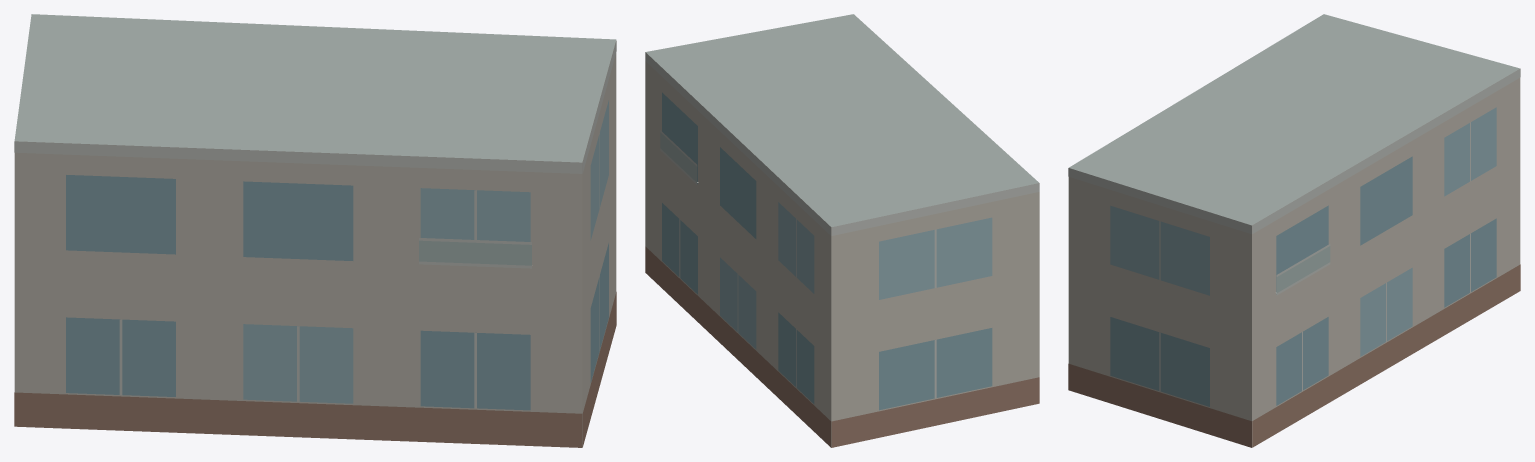
File: survey-upis-32985713.glb
3 views of the same model, side by side, from view 1: azimuth 30°, elevation 25°; view 2: azimuth 150°, elevation 25°; view 3: azimuth 270°, elevation 25° (orthographic). The views are drawn at different scales.
Visible parts, largest first — view 1: survey-upis-32985713.tmp; view 2: survey-upis-32985713.tmp; view 3: survey-upis-32985713.tmp.
Boxes of the visible parts, left/top/right/bottom form: survey-upis-32985713.tmp: left=14, top=14, right=616, bottom=447; survey-upis-32985713.tmp: left=645, top=14, right=1039, bottom=447; survey-upis-32985713.tmp: left=1068, top=14, right=1520, bottom=447.
Size of the model in its own units: 12.45 by 6.1 by 11.25.
